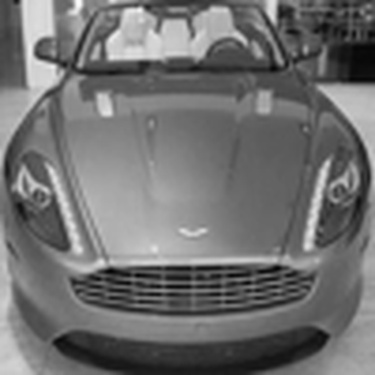car: (1, 10, 370, 371)
